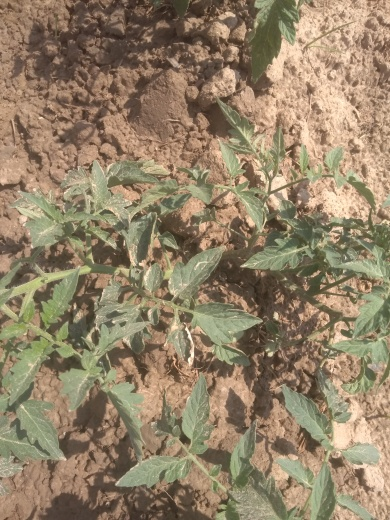tomato diseased leaf: (159, 315, 208, 372)
tomato plant: (14, 171, 385, 520)
